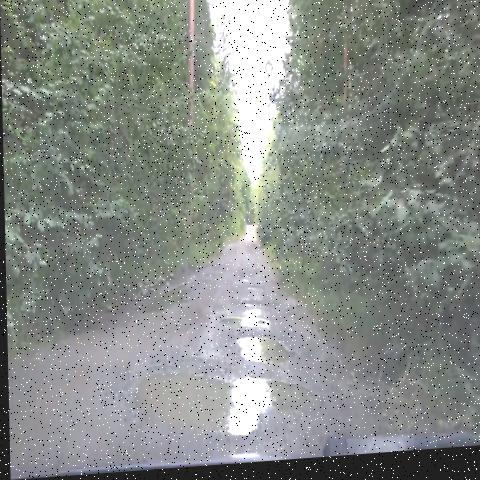pothole: (120, 365, 321, 460), (223, 323, 308, 378), (137, 274, 193, 327), (209, 303, 275, 338), (239, 255, 265, 303), (234, 289, 271, 318)
